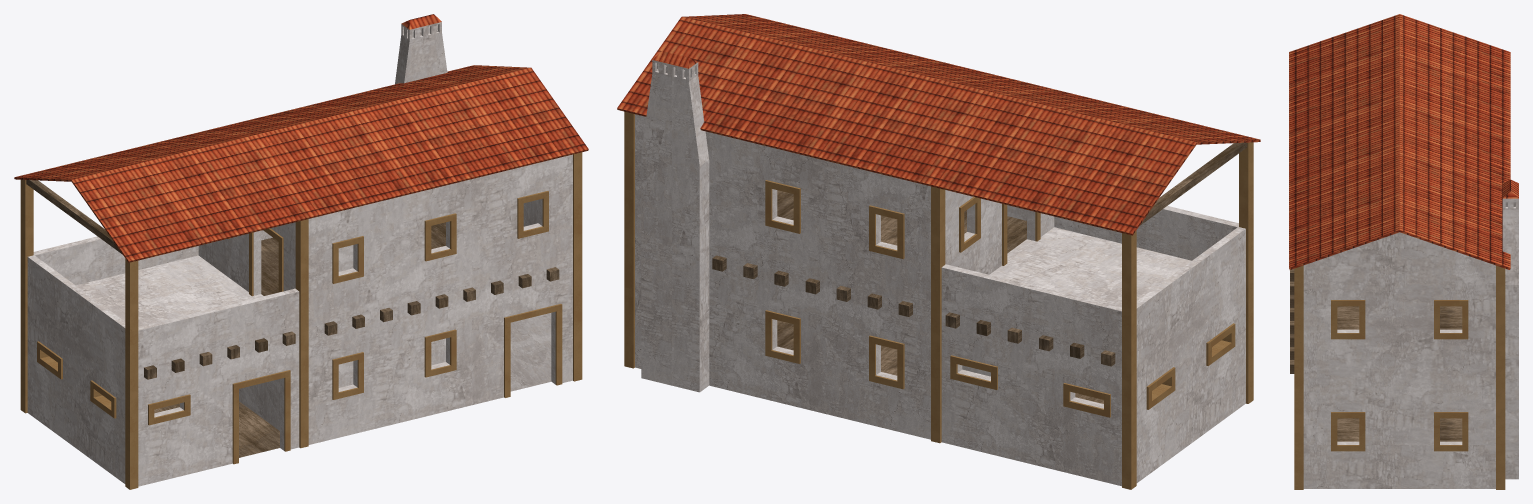
The picture shows the model from 3 angles, left to right: view 1: azimuth 30°, elevation 25°; view 2: azimuth 150°, elevation 25°; view 3: azimuth 270°, elevation 25°; orthographic projection. The views are drawn at different scales.
Visible parts, largest first — view 1: Plane.002_0; view 2: Plane.002_0; view 3: Plane.002_0.
Part boxes in pixels (x1,y1,x2,y2): Plane.002_0: (14,14,588,489); Plane.002_0: (617,14,1260,489); Plane.002_0: (1289,14,1518,489).
Bounding box in the file's own units: 6.21 × 3.77 × 2.79.
Materials: 4 (4 with a texture image).
